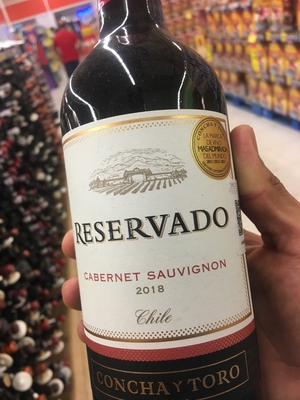reservado cabernet sauvignon: (55, 3, 269, 400)
